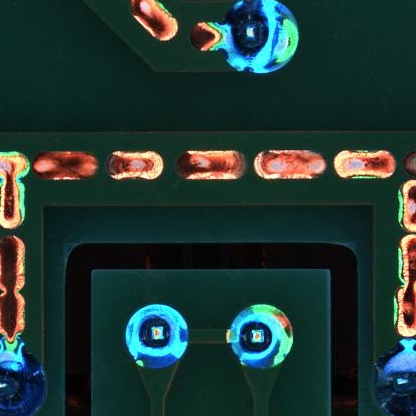spot: (222, 1, 300, 73), (228, 303, 293, 368), (125, 303, 189, 369), (369, 348, 416, 415), (1, 353, 50, 416)
